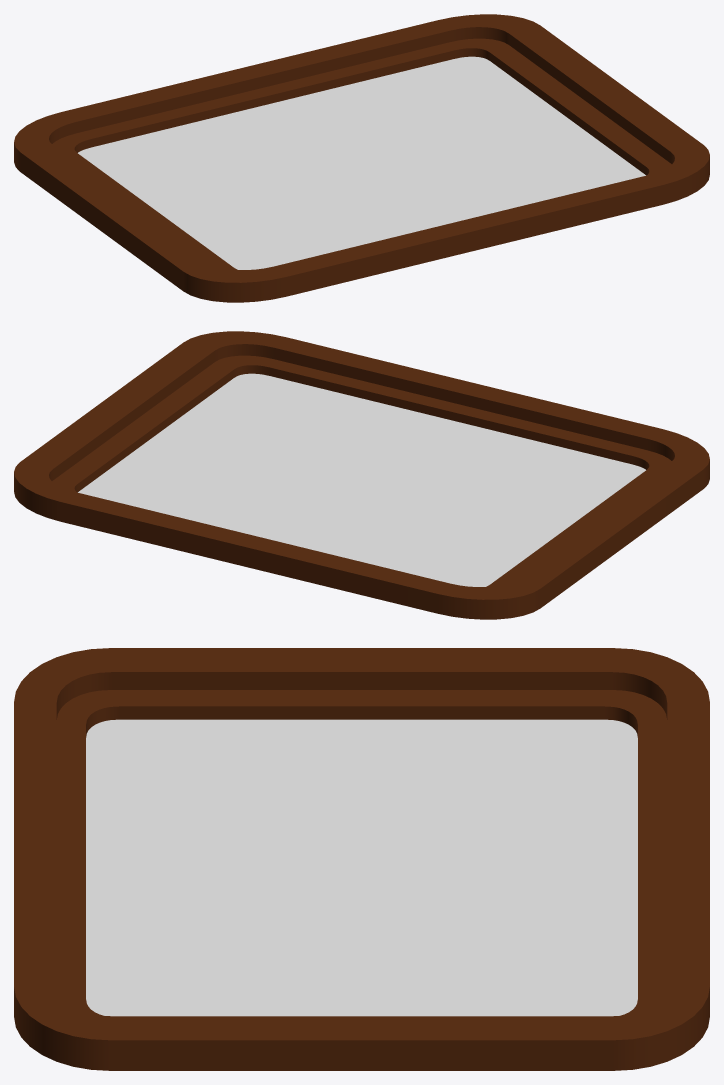
File: Game Board.001.fbx
The picture shows the model from 3 angles, top to bottom: view 1: azimuth 30°, elevation 25°; view 2: azimuth 150°, elevation 25°; view 3: azimuth 270°, elevation 25°; orthographic projection. The views are drawn at different scales.
Parts seen in each view (by area): view 1: Game Board.001; view 2: Game Board.001; view 3: Game Board.001.
Part boxes in pixels (x1,y1,x2,y2): Game Board.001: [14, 14, 709, 302]; Game Board.001: [14, 331, 709, 619]; Game Board.001: [14, 648, 709, 1070].
Bounding box in the file's own units: 108 × 3.96 × 80.69.
